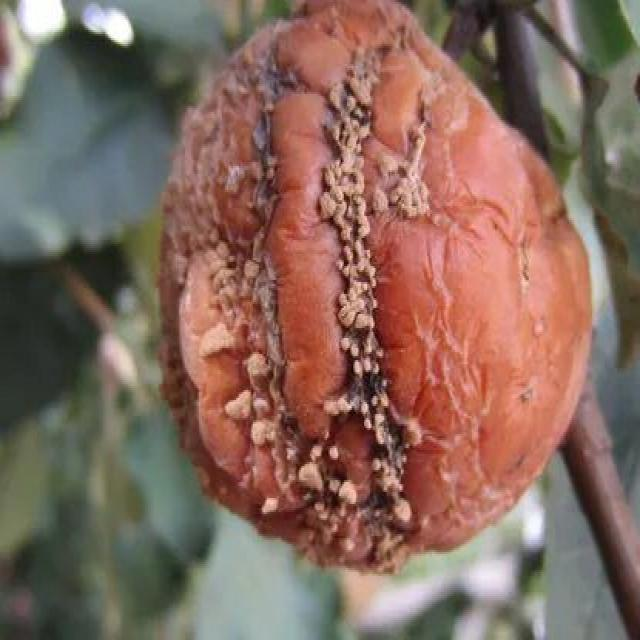Rotten: (165, 15, 583, 572)
